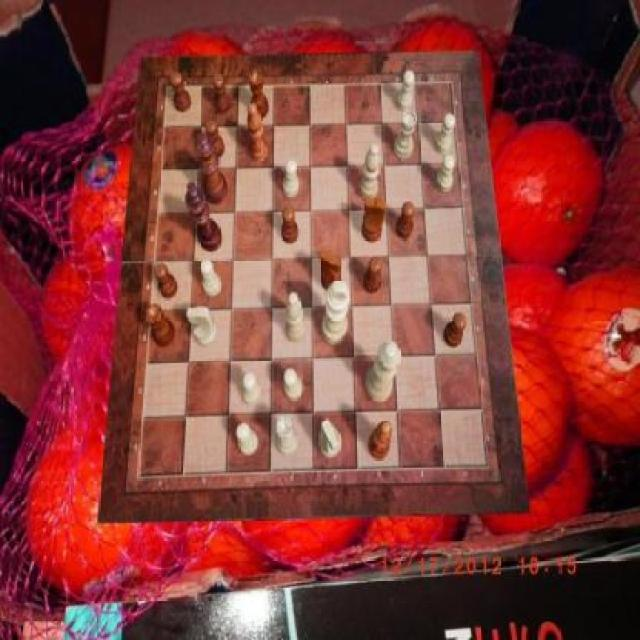bishop: (248, 103, 268, 162), (368, 420, 392, 460)
black-bishop: (186, 182, 223, 252)
black-king: (363, 197, 388, 243), (320, 249, 342, 292)
black-knight: (169, 71, 192, 112), (444, 312, 468, 348), (154, 263, 178, 299), (207, 120, 226, 160), (214, 74, 231, 115), (363, 258, 382, 294), (396, 202, 414, 240), (283, 206, 300, 244)
black-pawn: (194, 132, 229, 206)
black-queen: (146, 305, 176, 347), (249, 69, 269, 120)
black-rook: (358, 143, 381, 201), (286, 292, 307, 343)
white-bishop: (323, 280, 351, 346)
white-king: (188, 308, 218, 348), (320, 418, 343, 458)
white-knight: (436, 114, 456, 155), (200, 259, 222, 296), (235, 422, 258, 456), (397, 71, 415, 113), (436, 155, 454, 193), (284, 368, 304, 402), (283, 158, 300, 198), (242, 371, 260, 405)
white-pawn: (366, 340, 402, 402)
white-queen: (394, 111, 417, 160), (275, 417, 298, 457)
